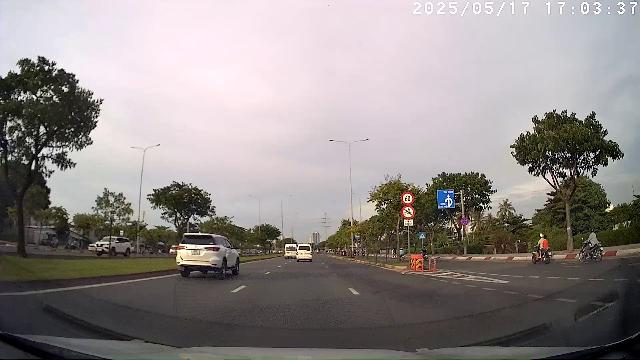127-toc-do-toi-da-60: (401, 191, 414, 206)
